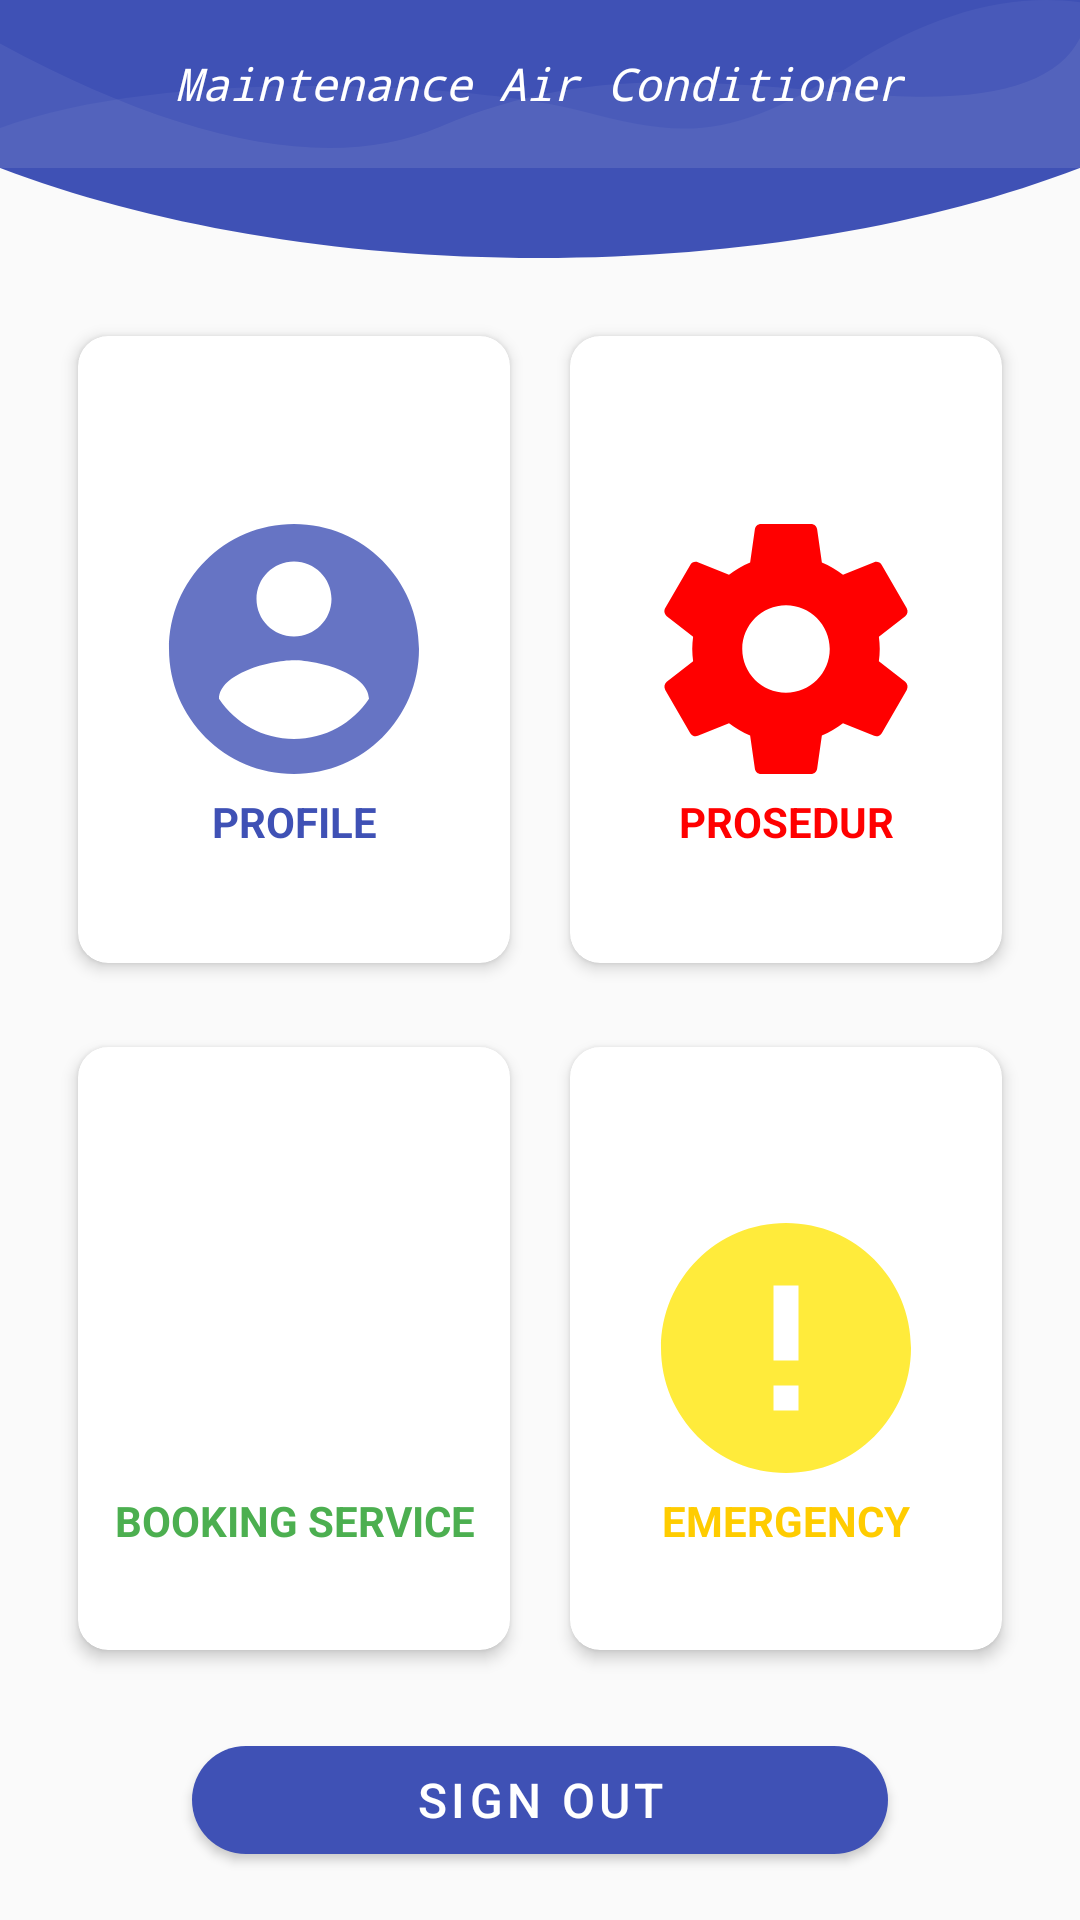

Where to tap for icons on this 1080px×1920px app screen, as (x,y):
error: (786,1348)
settings: (786,649)
